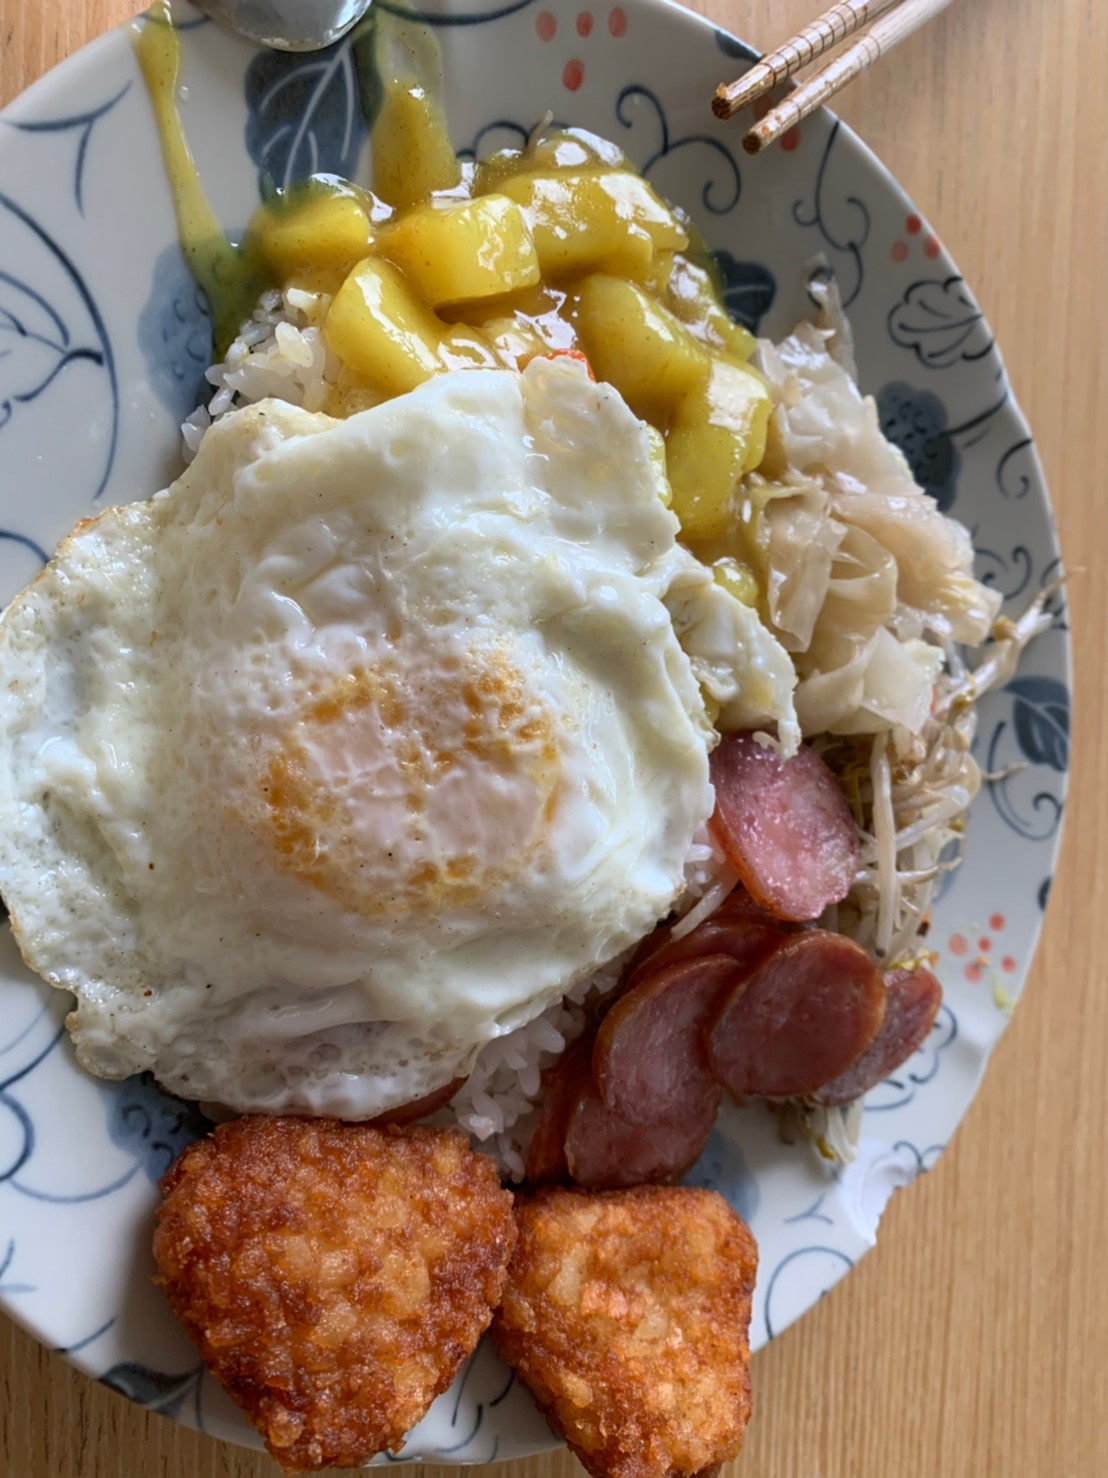chinese_cabbage: (755, 337, 1004, 732)
chinese_sausage: (514, 740, 942, 1182)
curry: (244, 142, 757, 402)
fried_eggs: (2, 357, 713, 1090)
mung_bean_sprouts: (851, 741, 981, 947)
rice: (187, 282, 332, 440)
triangle_hash_brown: (149, 1103, 762, 1478)
